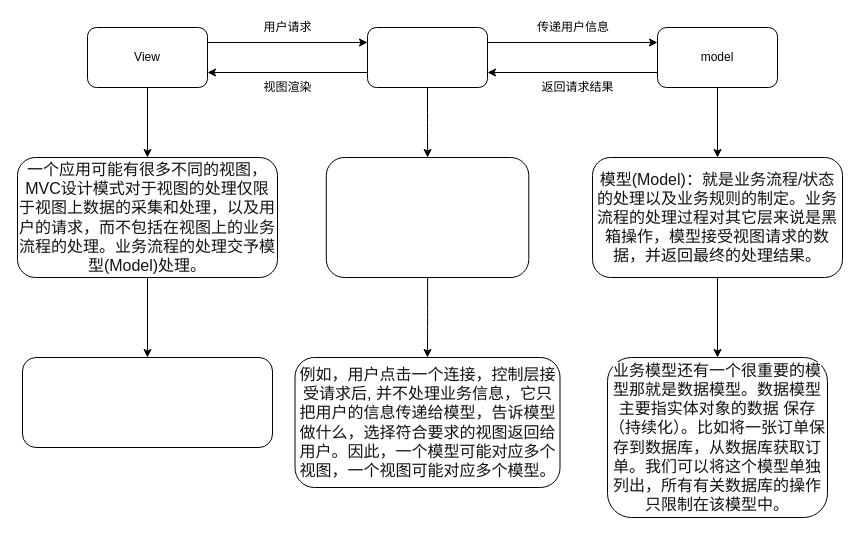
Some shapes in this 860 by 535 pixel diagram are drawn without their labels. The centre of each missing label's shape, as x and y in pixels:
control: the point at 427,57
控制层拿到用户的请求操作,并将请求操作传递给model层,控制层本身不做任何处理,它只把用户的信息传递给模型,告诉模型做什么,选择复合物要求的视图返回给用户: the point at 427,217
比如一个订单的视图只接受来自模型的数据并显示给用户，以及将用户界面的输入数据和请求传递给控制和模型。: the point at 147,402
